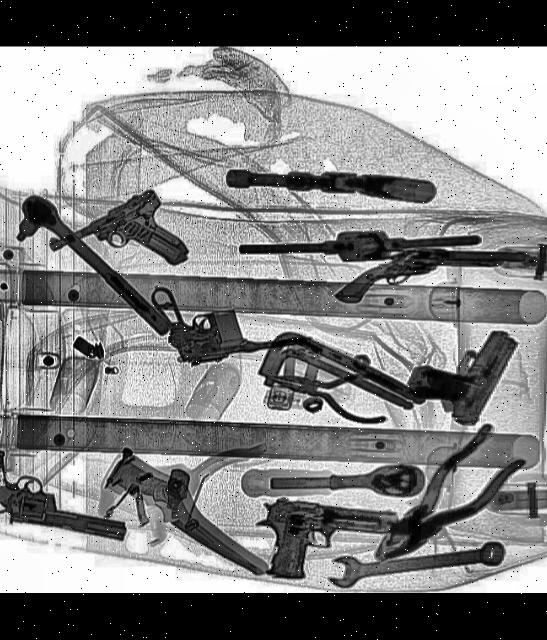Gun: (44, 187, 193, 314), (400, 305, 524, 432), (336, 240, 527, 316), (250, 499, 400, 590), (0, 451, 138, 542), (167, 297, 316, 348)
Pliers: (359, 423, 532, 582), (262, 356, 397, 431)
Wrench: (324, 534, 506, 593)
